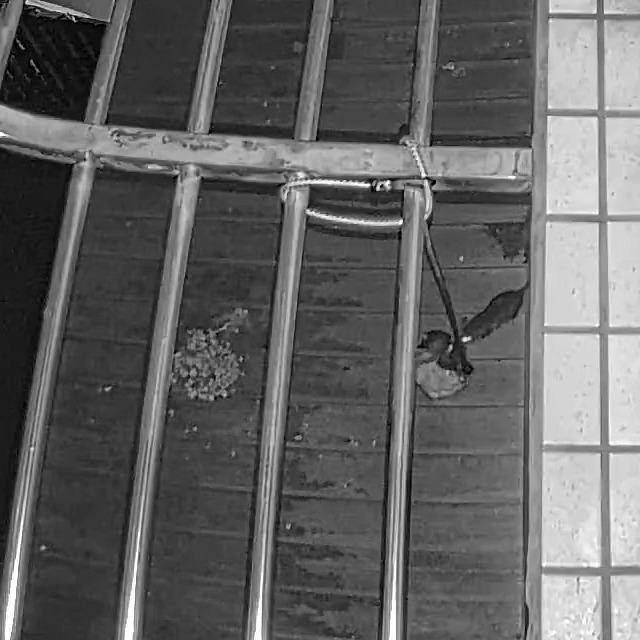rat: (459, 280, 532, 349)
